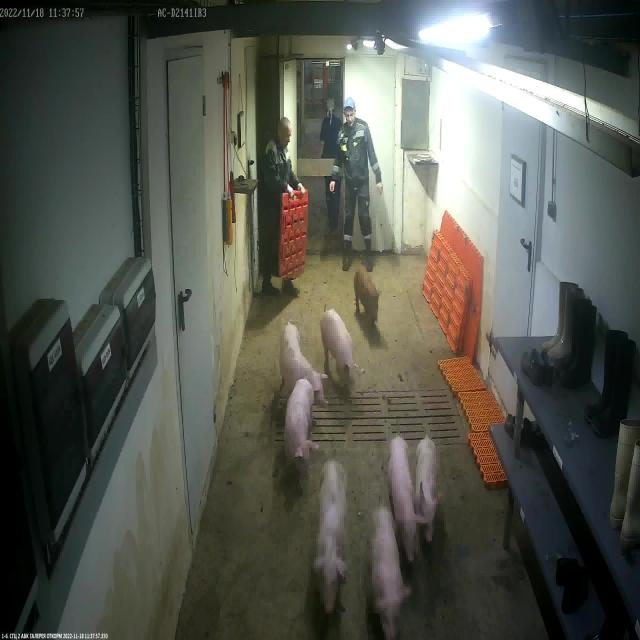pig: (314, 462, 348, 614), (371, 508, 410, 640), (389, 439, 426, 562), (284, 379, 320, 485), (322, 310, 365, 396), (284, 325, 328, 405), (418, 437, 444, 545), (353, 266, 379, 326)
